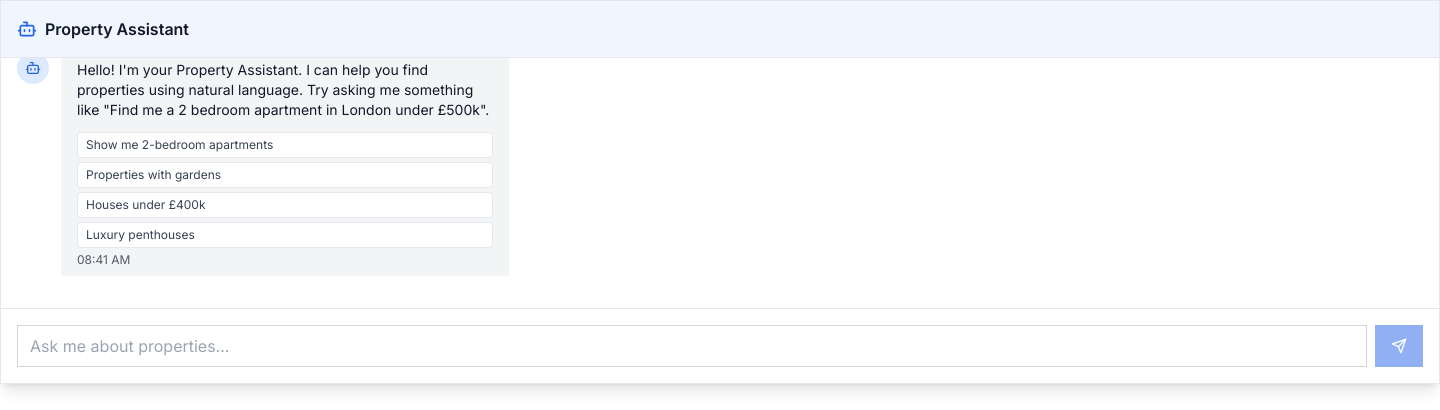
Scenario: TDD Complete Workflow Integration › 🔵 REFACTOR Phase: Enhanced Implementation with Advanced Features › should handle complex conversational context in chatbot
(page scrolled)
Note: First message - establish context
Type "I need a family home with garden for my children" into the field named "message" at (692, 346), box x1=17 y1=325 x2=1367 y2=367
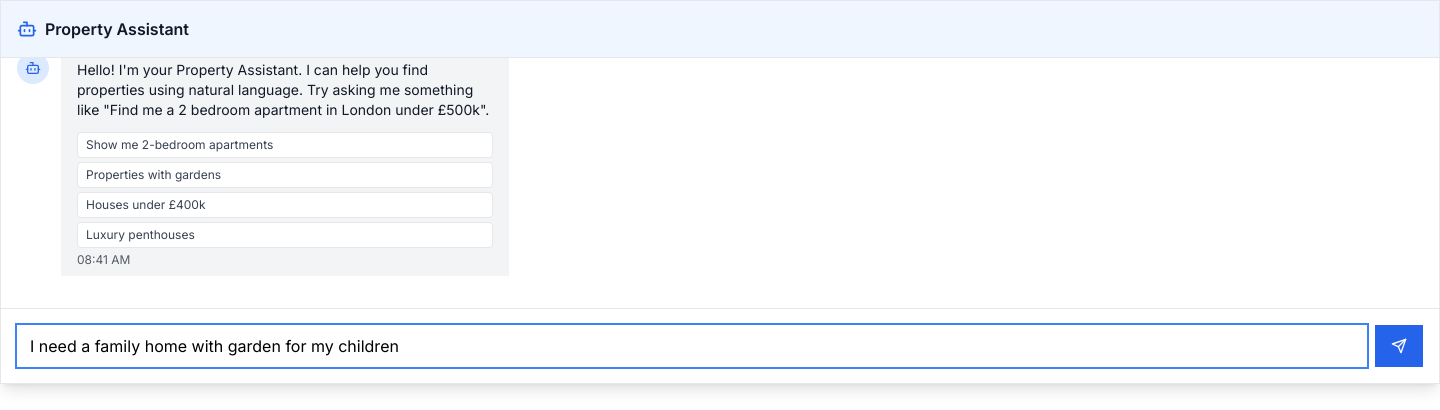
Click the button named "send" at (1399, 346), box x1=1375 y1=325 x2=1423 y2=367
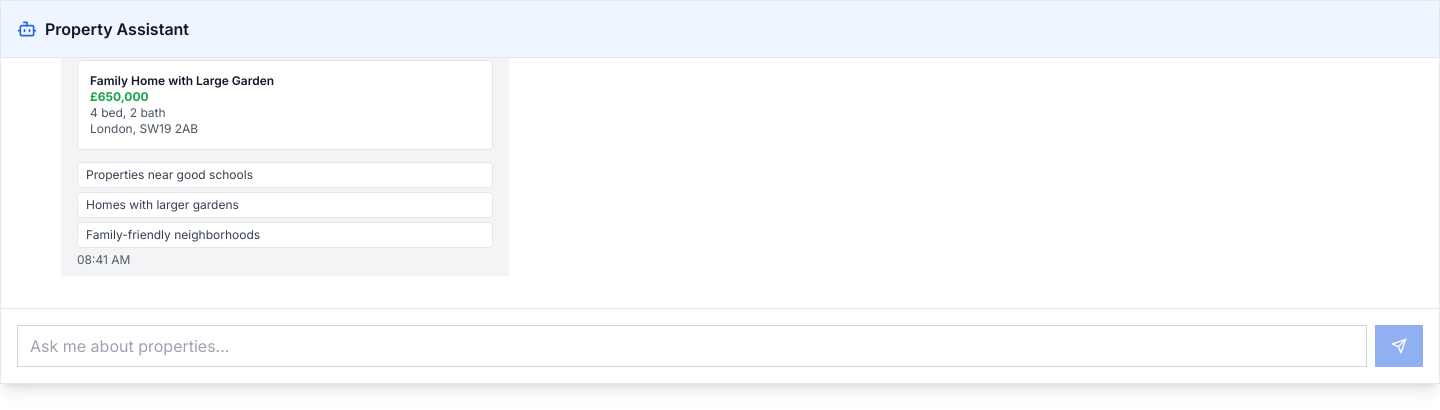
expect the heading "Family Home with Large Garden" is shown: met, box x1=90 y1=73 x2=274 y2=88
expect the button "Properties near good schools" is shown: met, box x1=77 y1=162 x2=493 y2=188
Note: Second message - context should be maintained
Type "What about luxury options?" into the field named "message" at (692, 346), box x1=17 y1=325 x2=1367 y2=367
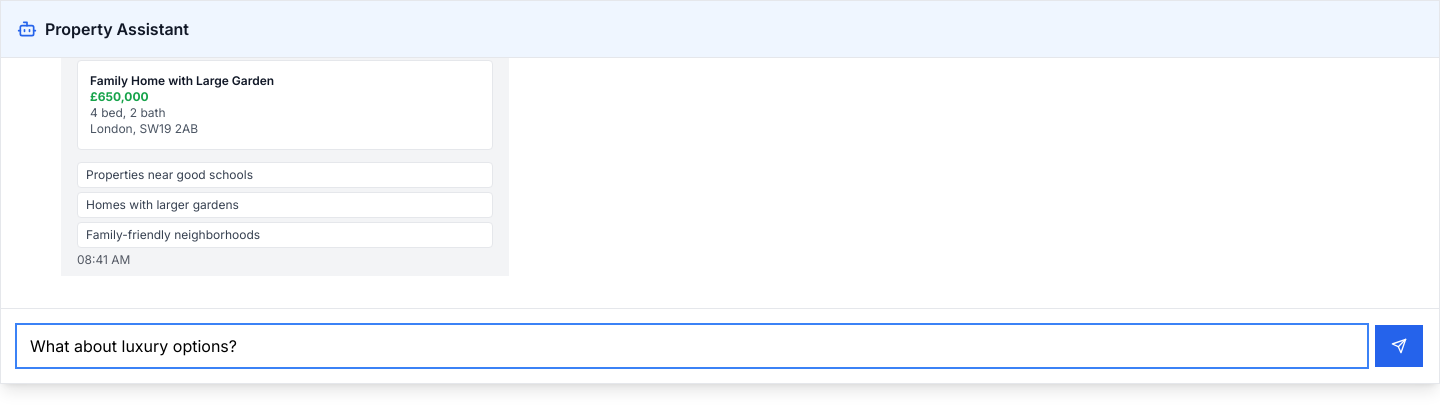
Click the button named "send" at (1399, 346), box x1=1375 y1=325 x2=1423 y2=367
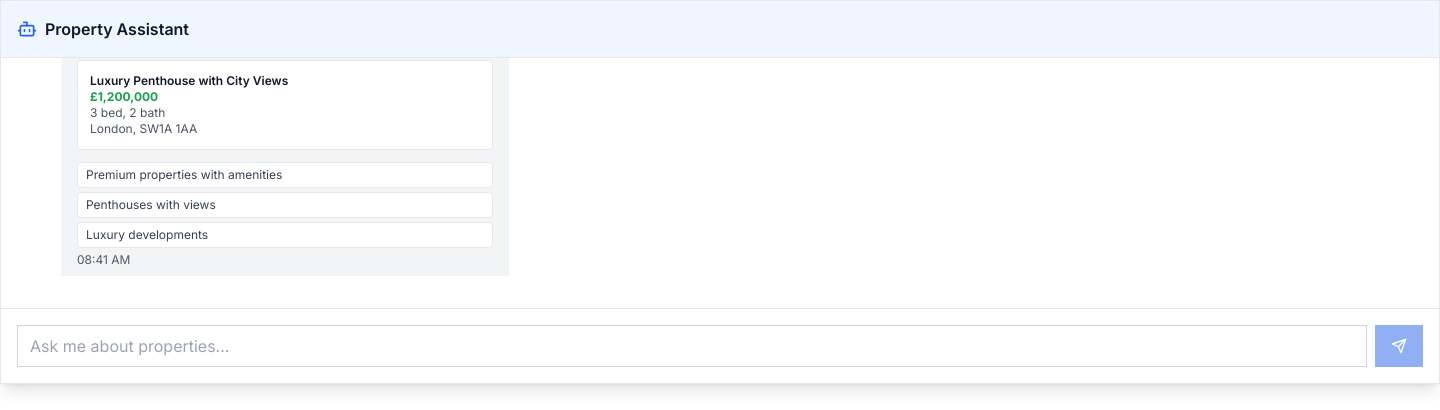
expect the heading "Luxury Penthouse with City Views" is shown: met, box x1=90 y1=73 x2=288 y2=88
expect the button "Premium properties with amenities" is shown: met, box x1=77 y1=162 x2=493 y2=188
